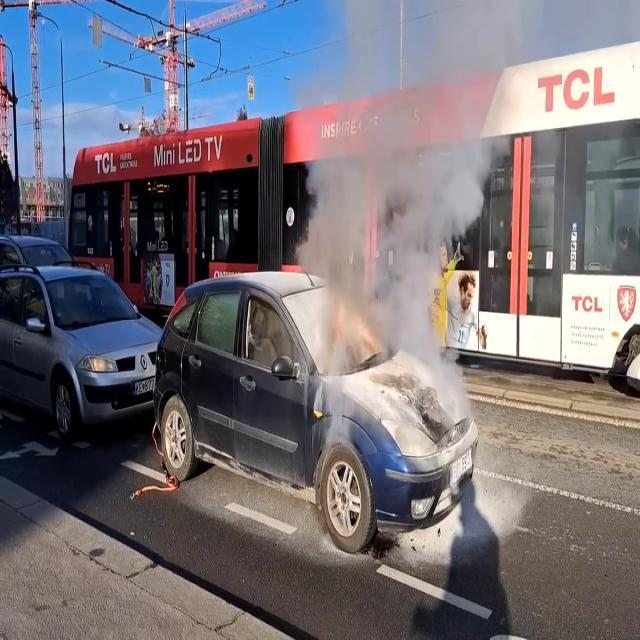Smoke: (298, 0, 536, 354)
